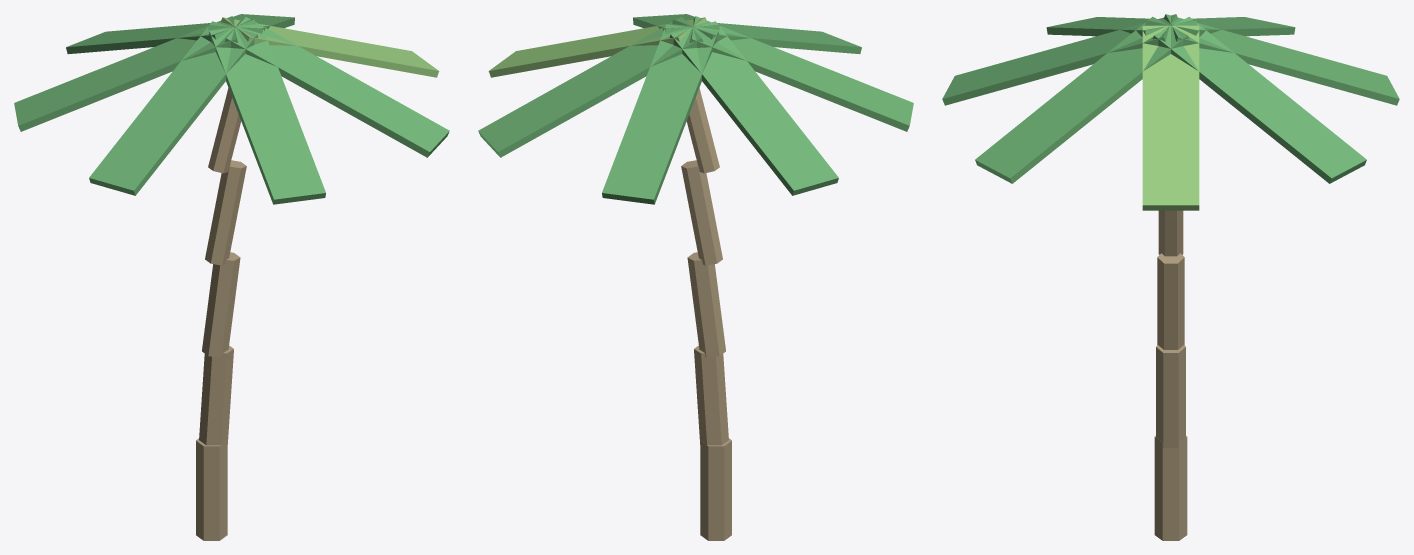
File: Foliage_Palm.fbx
3 renders of one model, left to right at view 1: azimuth 30°, elevation 25°; view 2: azimuth 150°, elevation 25°; view 3: azimuth 270°, elevation 25°, orthographic. The views are drawn at different scales.
Visible parts, largest first — view 1: Foliage_Palm; view 2: Foliage_Palm; view 3: Foliage_Palm.
Boxes of the visible parts, left/top/right/bottom form: Foliage_Palm: left=14, top=14, right=449, bottom=540; Foliage_Palm: left=478, top=14, right=913, bottom=540; Foliage_Palm: left=942, top=14, right=1399, bottom=540.
Bounding box in the file's own units: 4.73 × 6.1 × 4.85.
